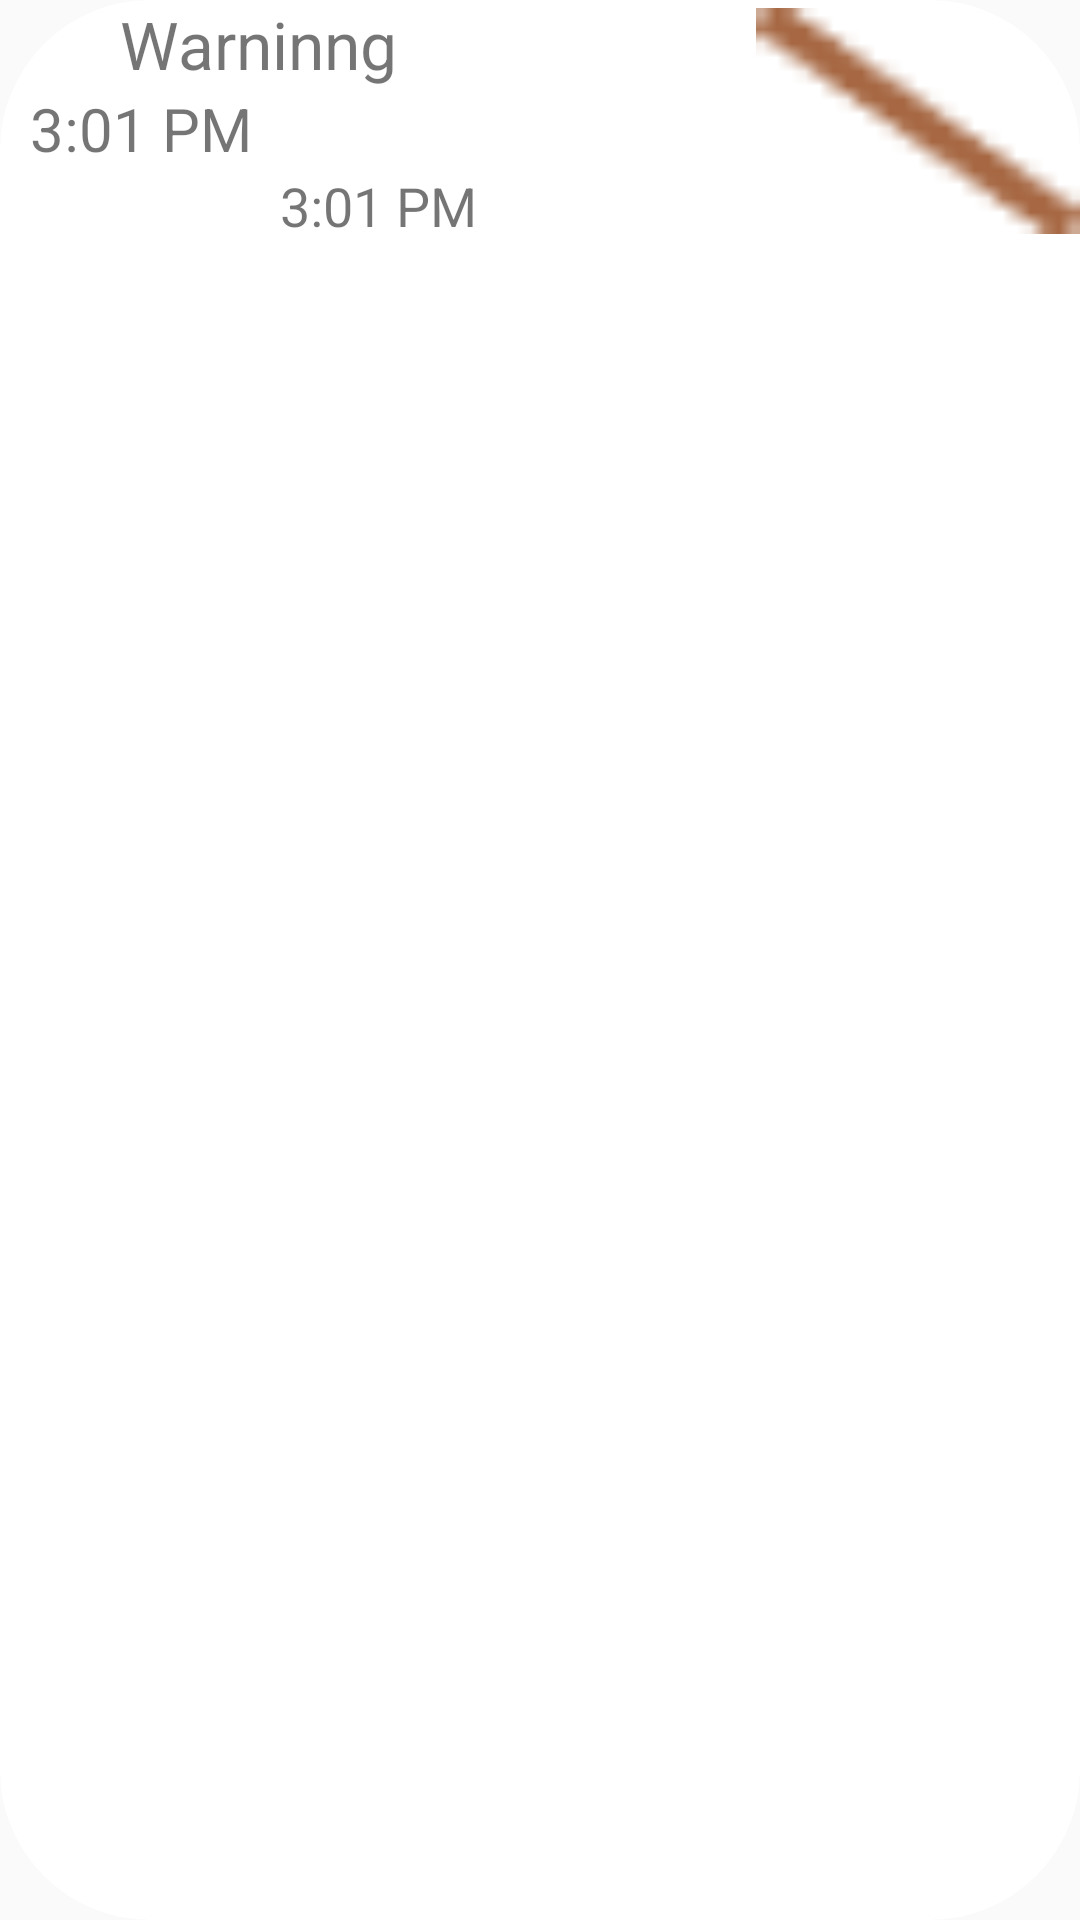

Named icons in this screenshot (1080px×1920px) and their bounding boxes, (x1, y1, x2, y2):
stroke ek: (756, 8, 1080, 234)
